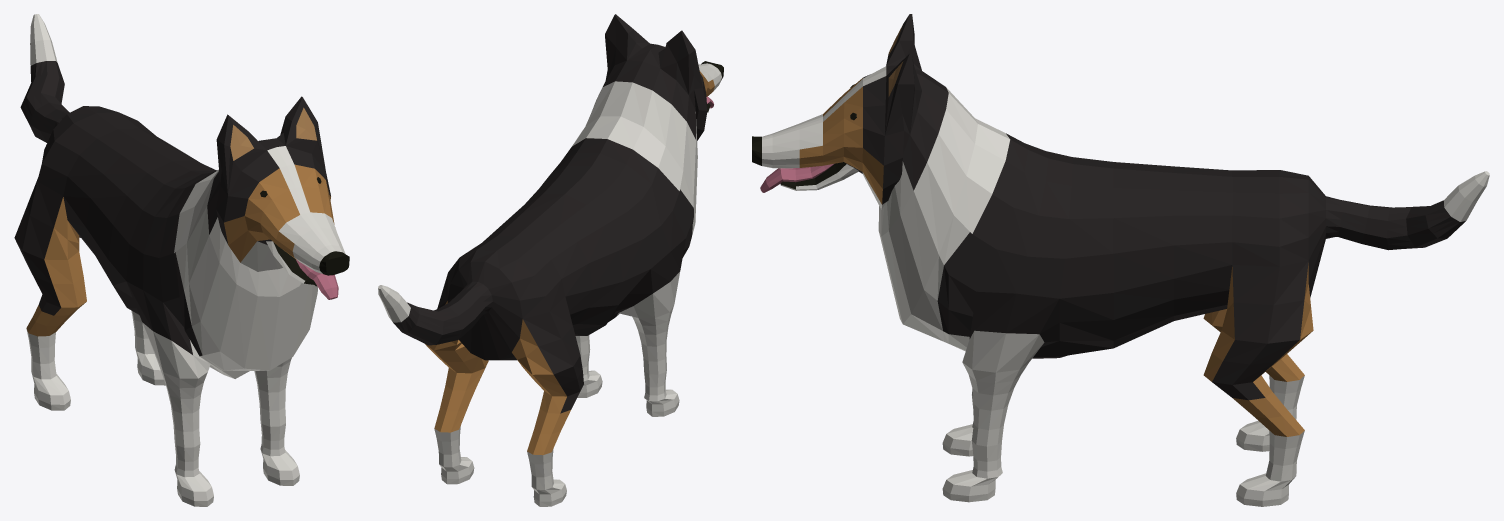
File: farm-dog-723730.glb
3 renders of one model, left to right at view 1: azimuth 30°, elevation 25°; view 2: azimuth 150°, elevation 25°; view 3: azimuth 270°, elevation 25°, orthographic. The views are drawn at different scales.
Parts seen in each view (by area): view 1: farm-dog-723730; view 2: farm-dog-723730; view 3: farm-dog-723730.
Boxes of the visible parts, x1=… form: farm-dog-723730: x1=14, y1=14, x2=349, y2=506; farm-dog-723730: x1=378, y1=14, x2=723, y2=506; farm-dog-723730: x1=752, y1=14, x2=1489, y2=506.
Bounding box in the file's own units: 0.3272 × 0.7866 × 1.2.
